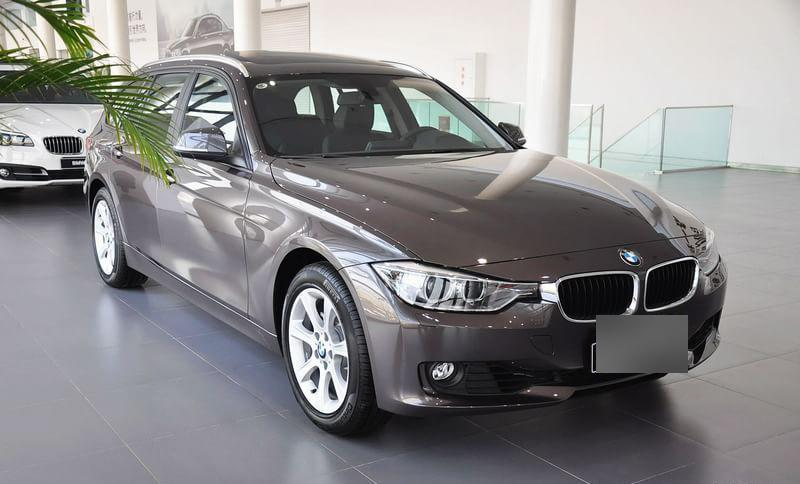Wagon: (83, 47, 729, 437)
